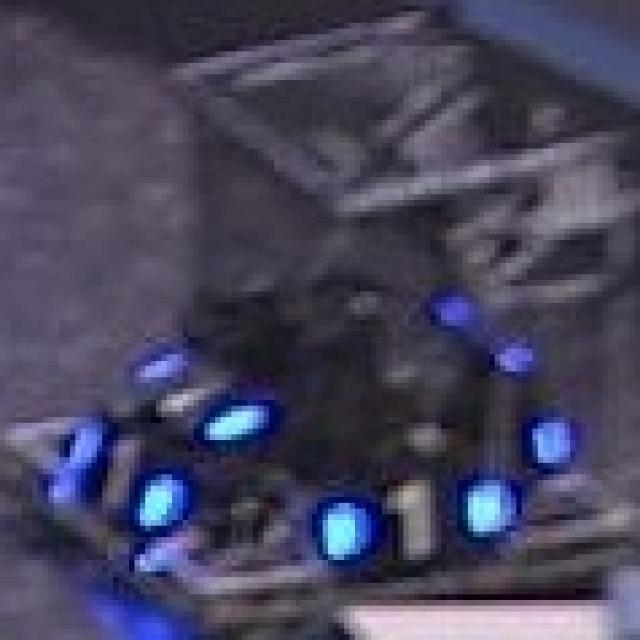B1: (312, 474, 511, 560), (65, 417, 172, 537), (140, 343, 263, 440)
